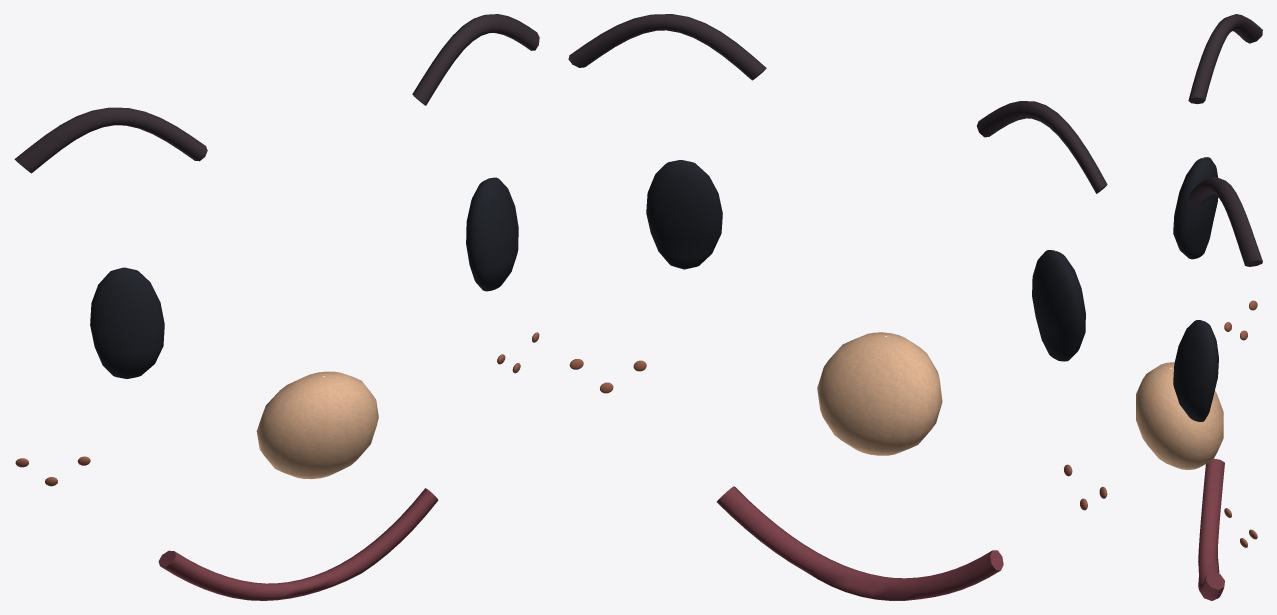
Rendered from face_kindly.gltf.
3 views of the same model, side by side, from view 1: azimuth 30°, elevation 25°; view 2: azimuth 150°, elevation 25°; view 3: azimuth 270°, elevation 25° (orthographic). The views are drawn at different scales.
Parts seen in each view (by area): view 1: Kind Eyes; view 2: Kind Eyes; view 3: Kind Eyes.
Part boxes in pixels (x1,y1,x2,y2): Kind Eyes: [14, 14, 539, 600]; Kind Eyes: [568, 14, 1107, 600]; Kind Eyes: [1136, 14, 1262, 600].
Bounding box in the file's own units: 0.261 × 0.2515 × 0.0599.
Materials: 5 (5 with a texture image).
